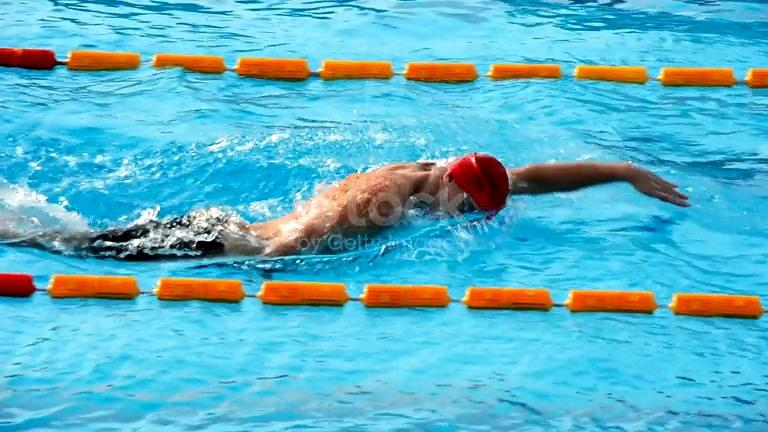Swimming: (2, 150, 693, 264)
